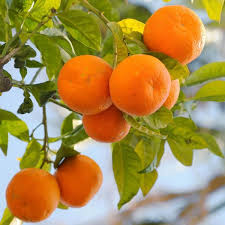orange: (107, 48, 174, 117), (45, 51, 115, 114), (140, 4, 207, 65), (52, 146, 107, 209), (8, 167, 62, 221), (83, 103, 131, 145)
